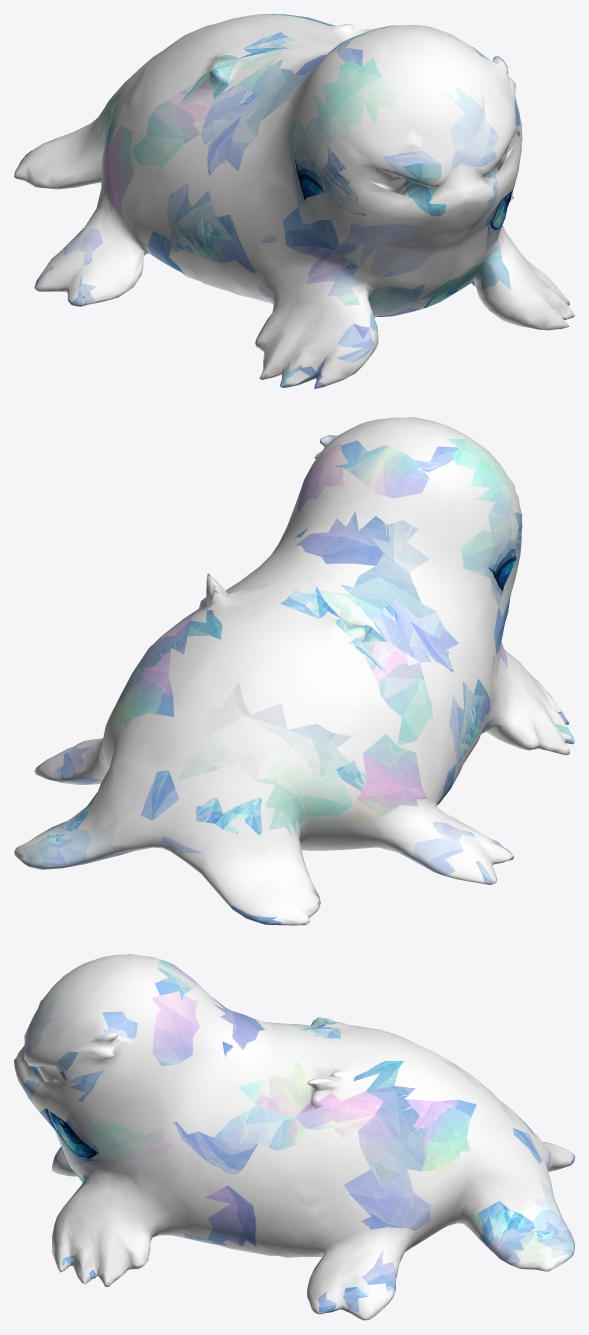
File: aurora_seal_basic_5k.fbx
3 views of the same model, one above another, from view 1: azimuth 30°, elevation 25°; view 2: azimuth 150°, elevation 25°; view 3: azimuth 270°, elevation 25° (orthographic). The views are drawn at different scales.
Parts seen in each view (by area): view 1: aurora_seal_basic_decimated; view 2: aurora_seal_basic_decimated; view 3: aurora_seal_basic_decimated.
Part boxes in pixels (left/top/right/bottom): aurora_seal_basic_decimated: left=14, top=14, right=574, bottom=388; aurora_seal_basic_decimated: left=14, top=417, right=574, bottom=925; aurora_seal_basic_decimated: left=14, top=954, right=574, bottom=1320.
Size of the model in its own units: 1.56 by 0.9746 by 1.9.
